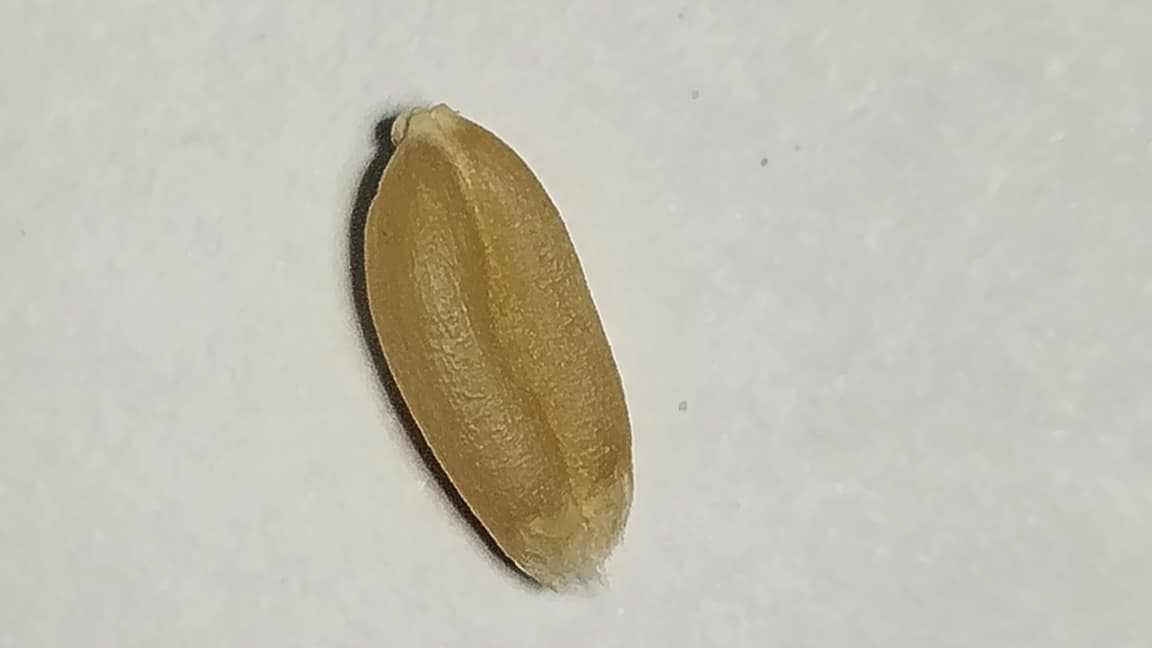healthy: (369, 126, 631, 569)
